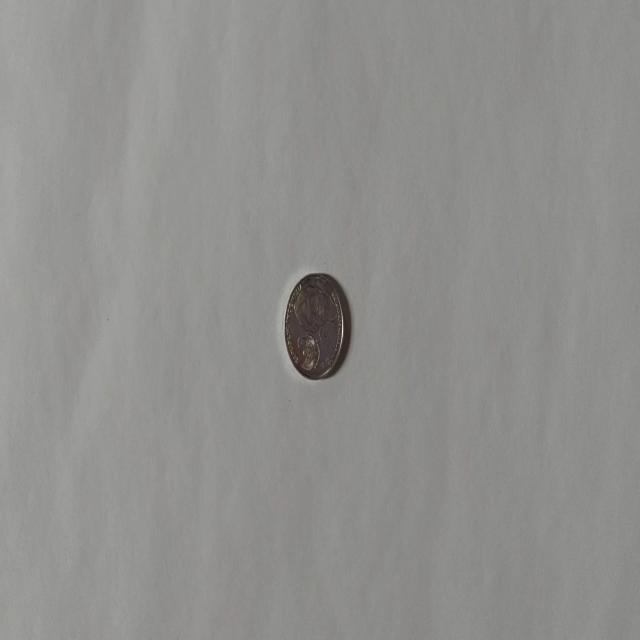dua ratus rupiah: (283, 271, 345, 381)
